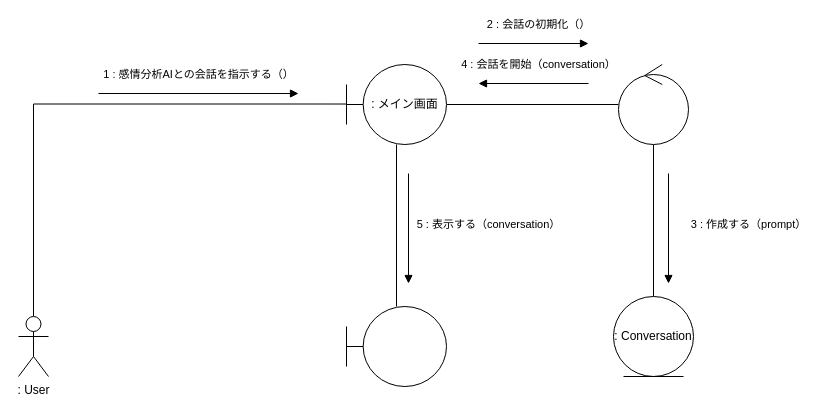
The diagram is 823 pixels wide and 414 high, and some of its shapes have lost their labels. The centre of each missing label's shape, as x and y in pixels:
: AIと会話する画面: the point at 396,346
: 会話管理: the point at 653,104
